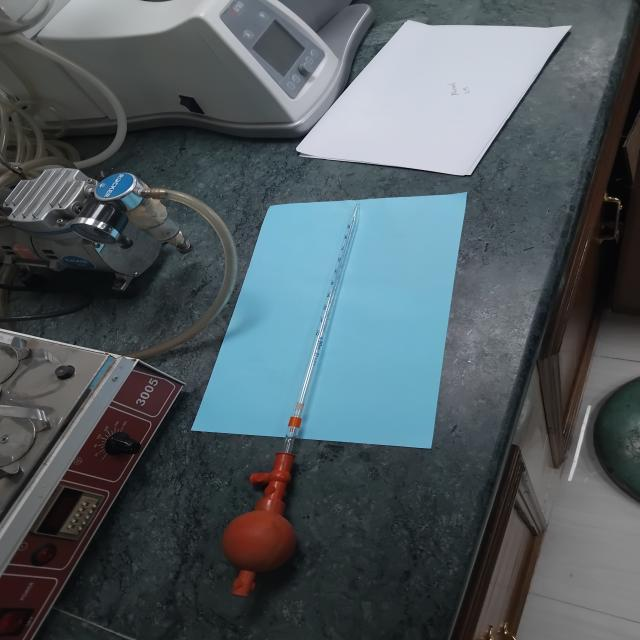Volumetric_Pipet: (190, 166, 382, 618)
